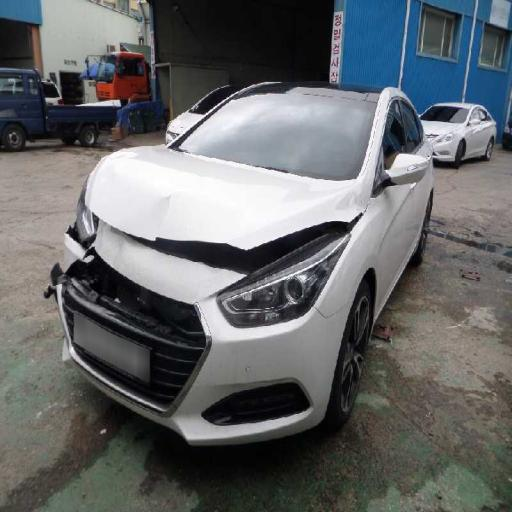broken: (134, 234, 342, 440), (40, 216, 114, 366)
dent: (108, 117, 369, 230)
